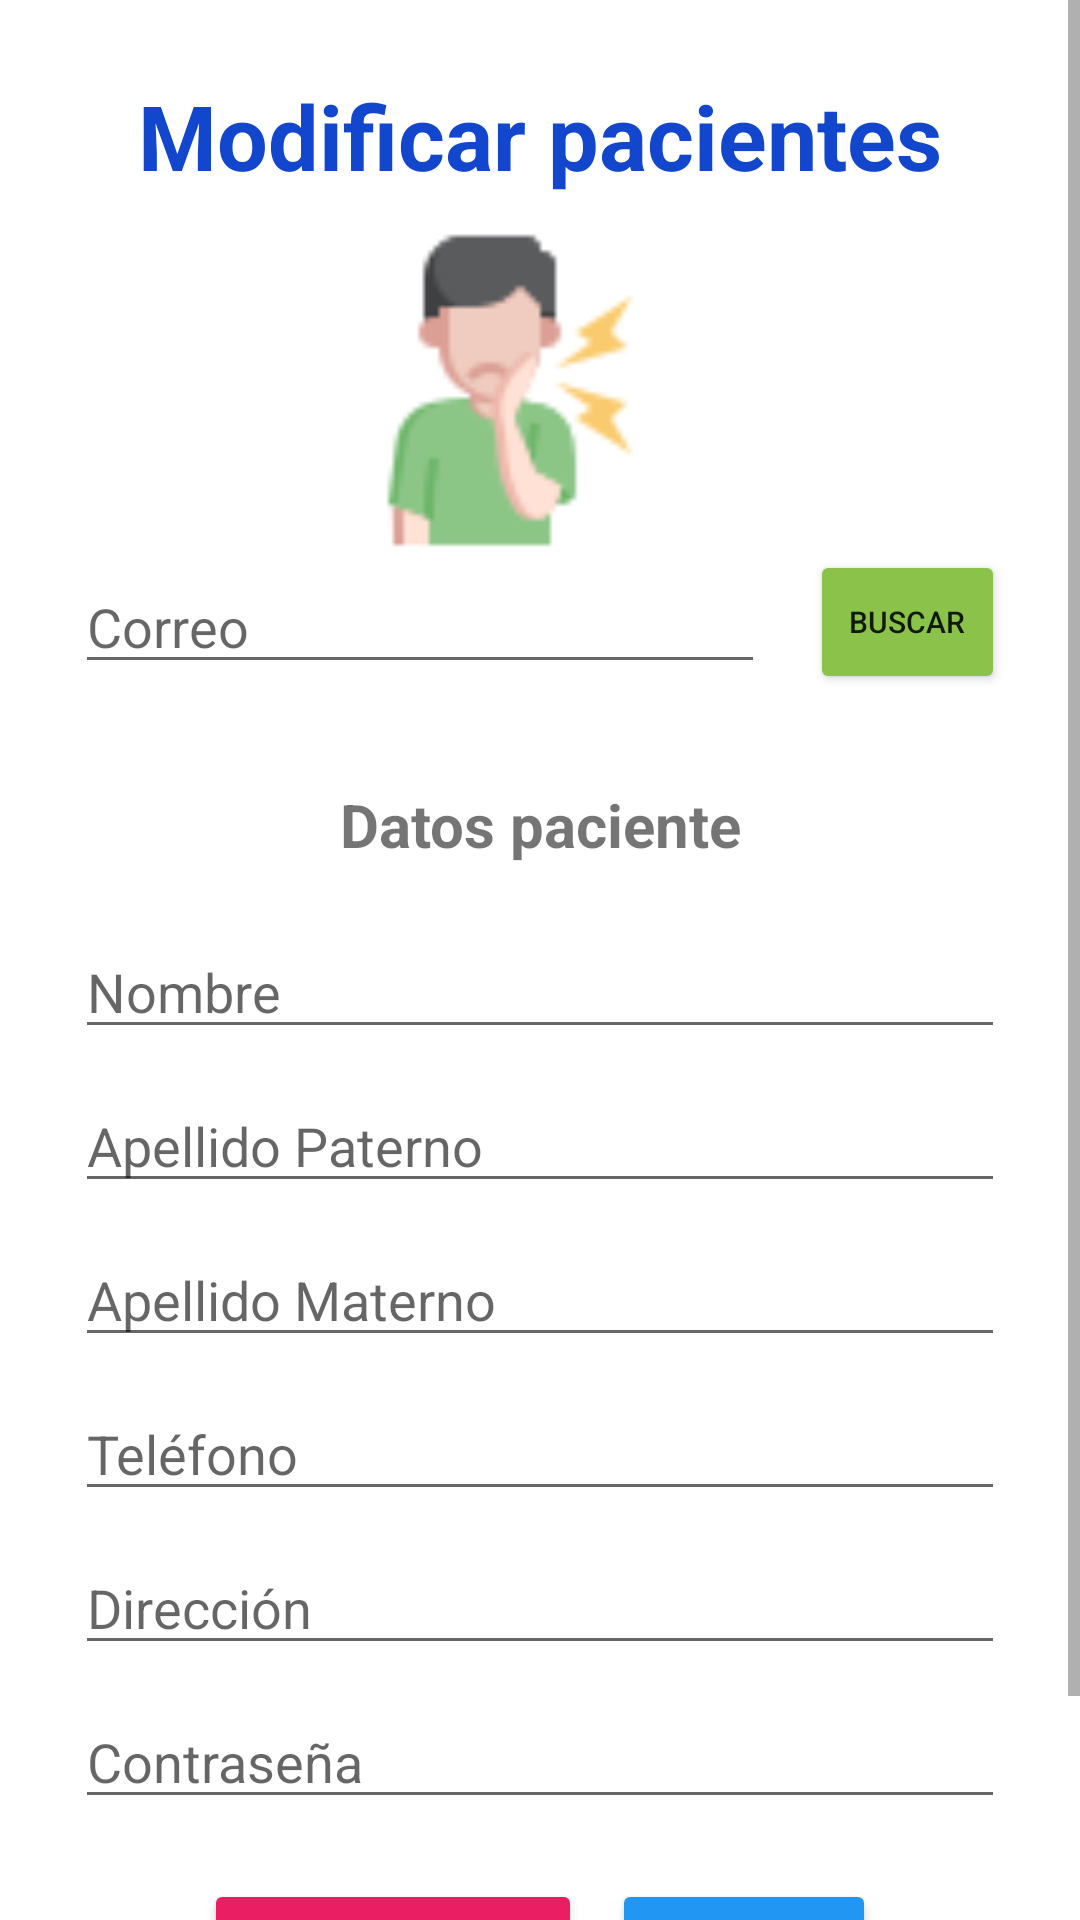

Screen size 1080px×1920px. Icon name, then its center in pixels as (x=x, y=y):
usuario: (x=509, y=390)
